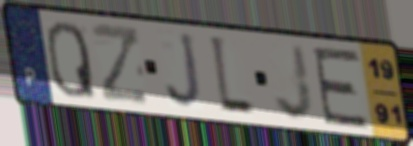E: (310, 45, 371, 130)
J: (273, 42, 317, 123), (164, 31, 205, 112)
L: (207, 32, 257, 120)
Q: (44, 19, 99, 102)
Z: (88, 20, 151, 106)
